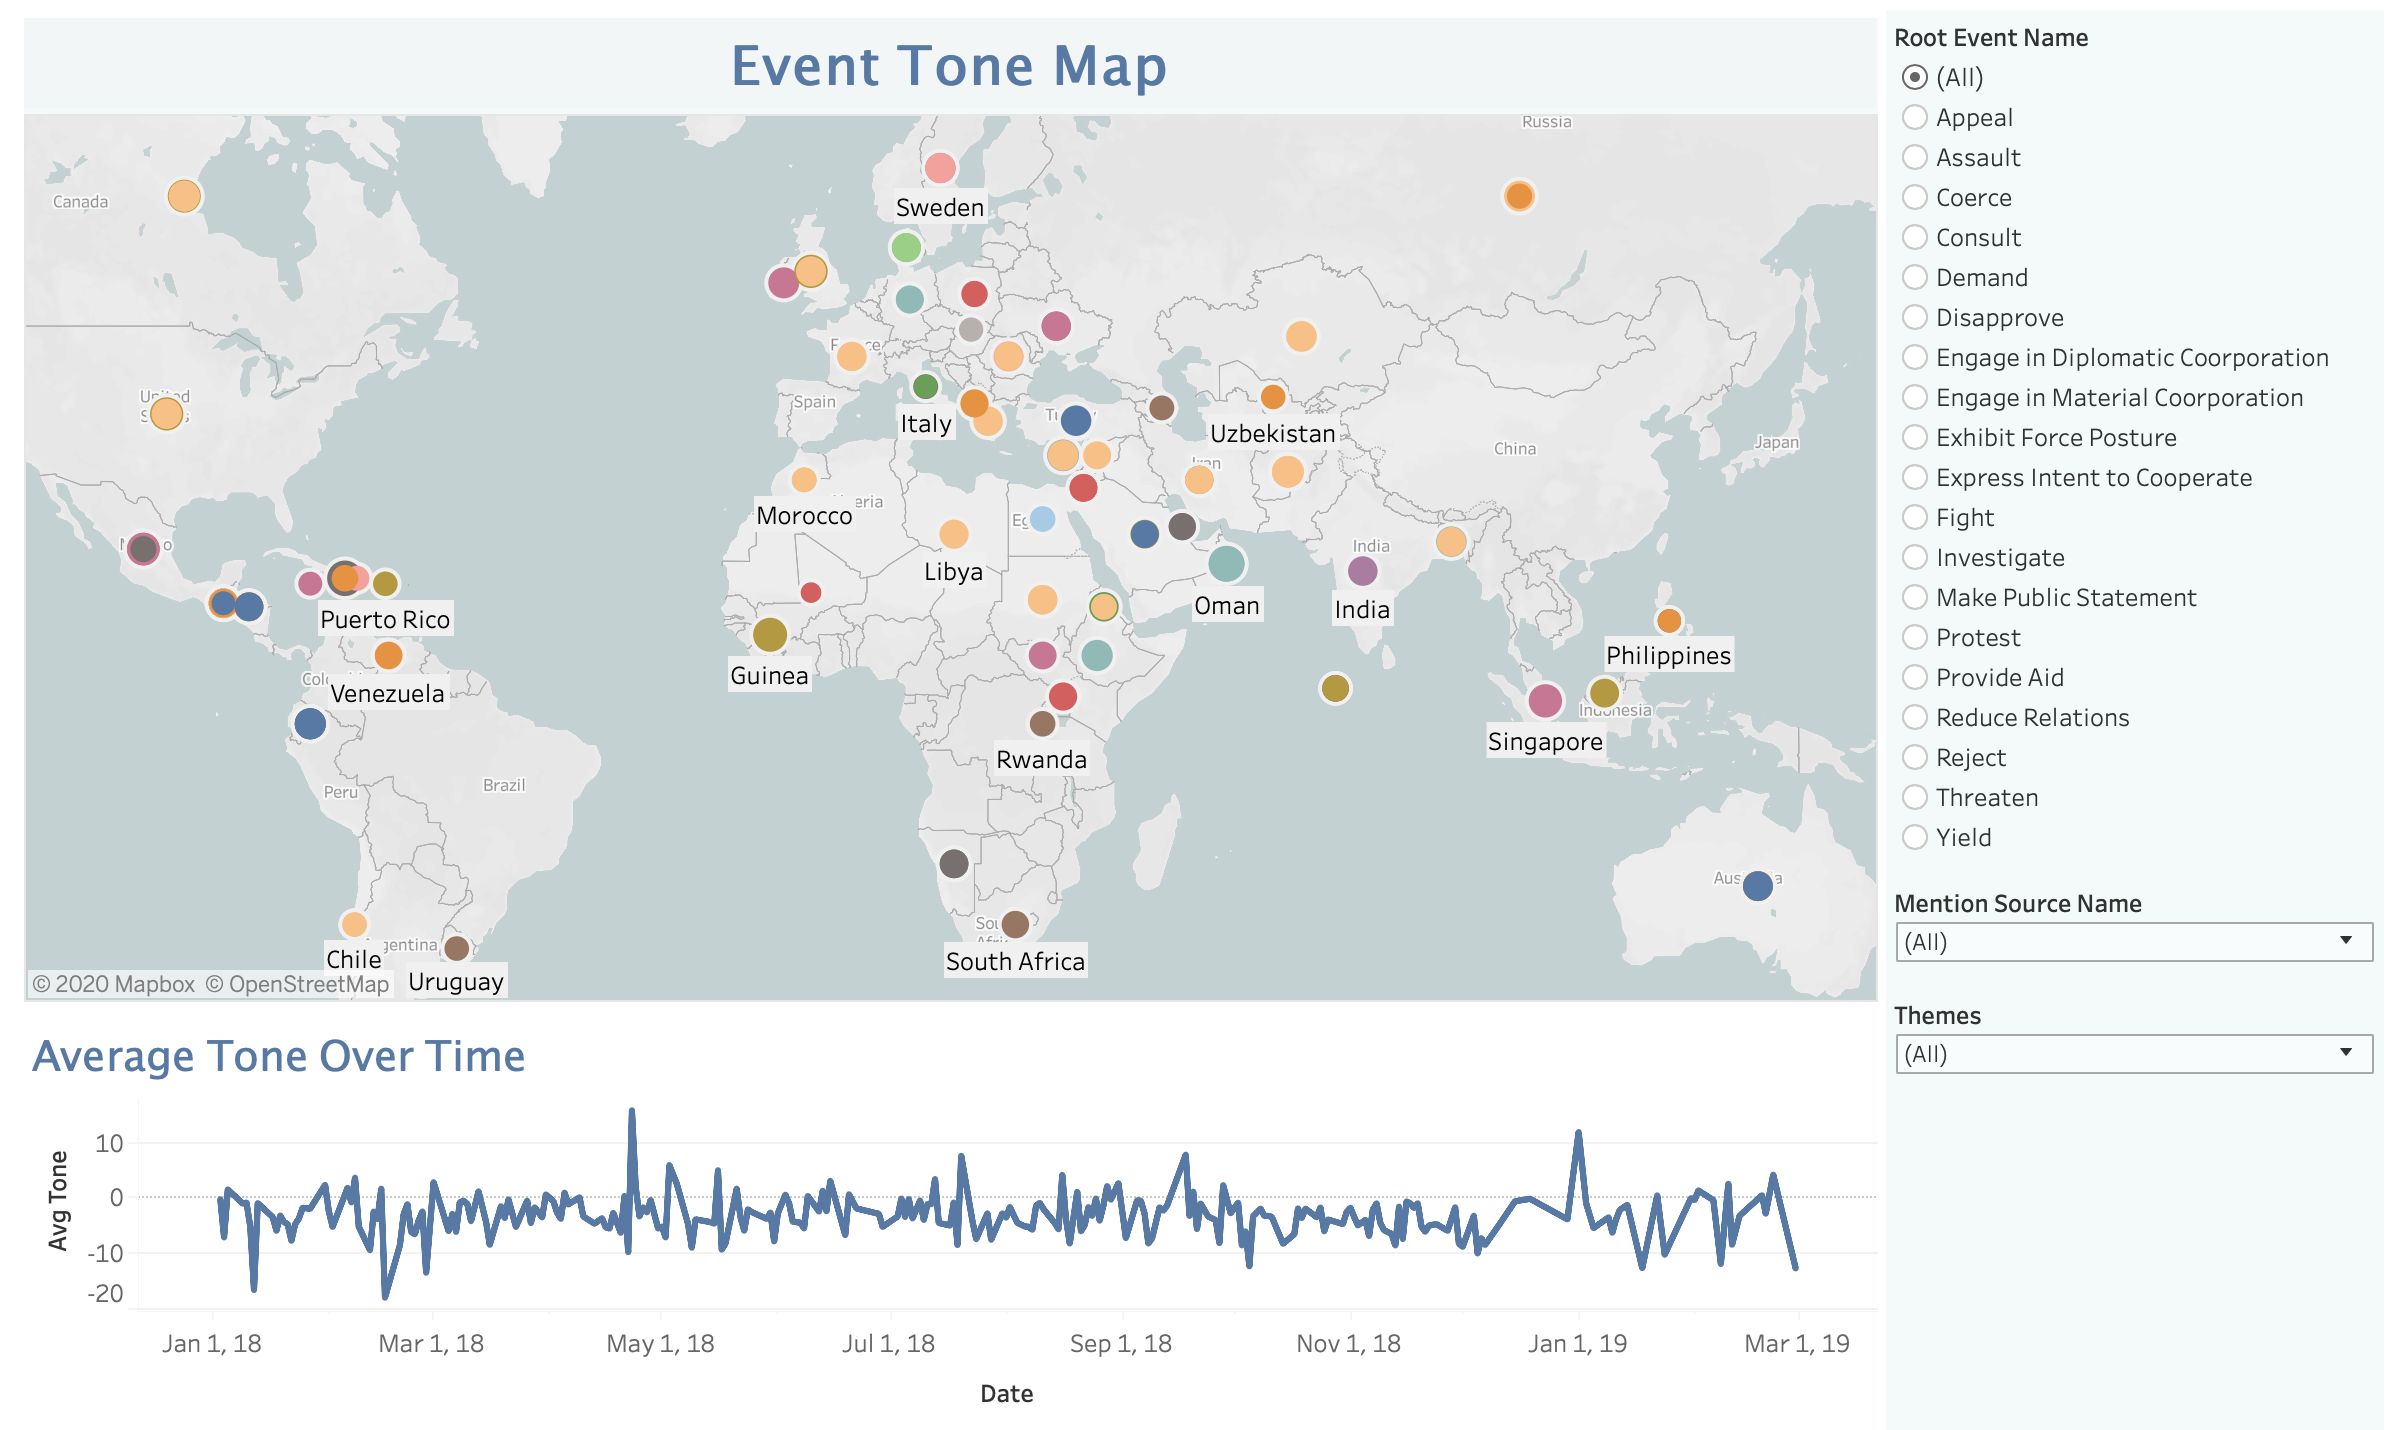

The dashboard page shown, as its layout file describes it:
{"tool":"tableau","page":{"name":"Dashboard 1","canvas":[1200,1700],"ordinal":0},"visuals":[{"type":"worksheet","title":"Sheet 3","mark":"Automatic","rows":["ActionGeo_Lat"],"cols":["ActionGeo_Long"],"box":[8,8,935,500]},{"type":"filter","title":"Sheet 3","param":"[federated.0hqkz1e0zq3k7l16prxxf0wu191d].[none:Root Event Name:nk]","box":[943,8,249,412]},{"type":"filter","title":"Sheet 2","param":"[federated.0atuvlt1xh0jhw1h2is6m1xi59ao].[none:MentionSourceName:nk]","box":[943,420,249,52]},{"type":"filter","title":"Sheet 1","param":"[federated.0u2l58q1x9wwnz1fg79c00lwfcya].[none:Themes:nk]","box":[943,472,249,52]},{"type":"worksheet","title":"Sheet 6","mark":"Automatic","rows":["EventAvgTone"],"cols":["SQLDATE"],"box":[8,508,935,211]},{"type":"worksheet","title":"Sheet 5","mark":"Automatic","rows":["F1"],"cols":["F2"],"box":[8,719,376.1,360]},{"type":"worksheet","title":"Sheet 4","mark":"Text","box":[384.1,719,558.9,360]},{"type":"worksheet","title":"Sheet 1","mark":"Automatic","rows":["AvgTone"],"cols":["Avg Tone (bin)"],"box":[8,1079,935,286]},{"type":"worksheet","title":"Sheet 2","mark":"Automatic","rows":["AvgTone"],"cols":["Avg Tone (bin)"],"box":[8,1365,935,327]}]}

Visuals, with their boxes on the page's 1200x1700 design canvas (x1, y1, x2, y2). These are canvas units, not pixel positions in the 2394x1430 screenshot, which may show the page scaled, cropped or inside an application window:
"Sheet 3" worksheet: x1=8, y1=8, x2=943, y2=508
"Sheet 3" filter: x1=943, y1=8, x2=1192, y2=420
"Sheet 2" filter: x1=943, y1=420, x2=1192, y2=472
"Sheet 1" filter: x1=943, y1=472, x2=1192, y2=524
"Sheet 6" worksheet: x1=8, y1=508, x2=943, y2=719
"Sheet 5" worksheet: x1=8, y1=719, x2=384, y2=1079
"Sheet 4" worksheet (Text marks): x1=384, y1=719, x2=943, y2=1079
"Sheet 1" worksheet: x1=8, y1=1079, x2=943, y2=1365
"Sheet 2" worksheet: x1=8, y1=1365, x2=943, y2=1692
